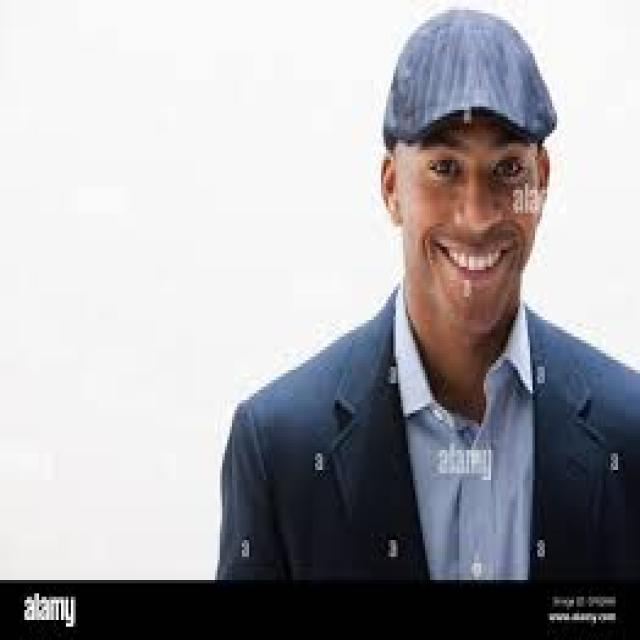cap: (376, 10, 555, 347)
